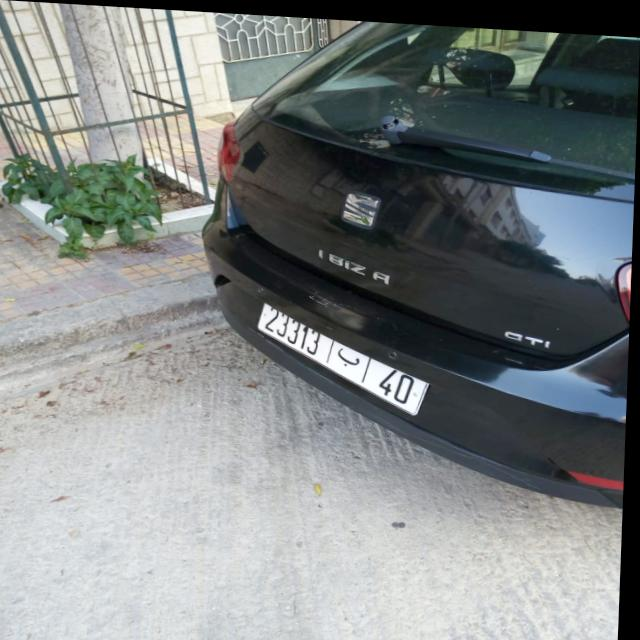License-Plate: (261, 301, 431, 409)
